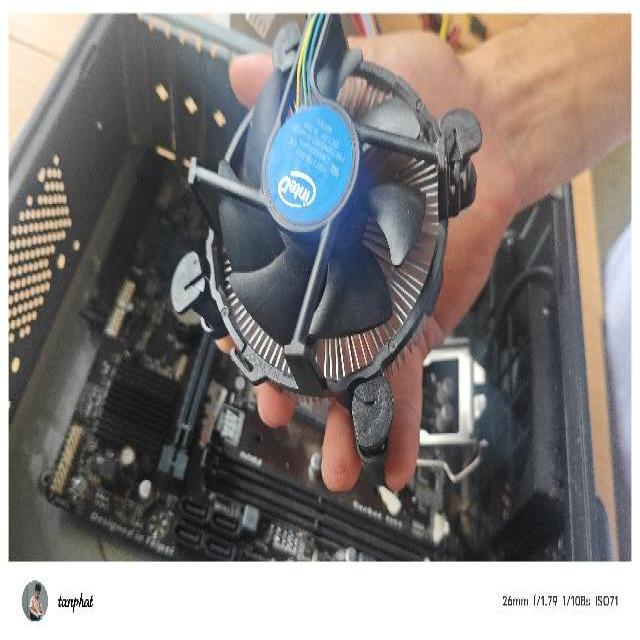CPU_Fan: (170, 15, 483, 468)
